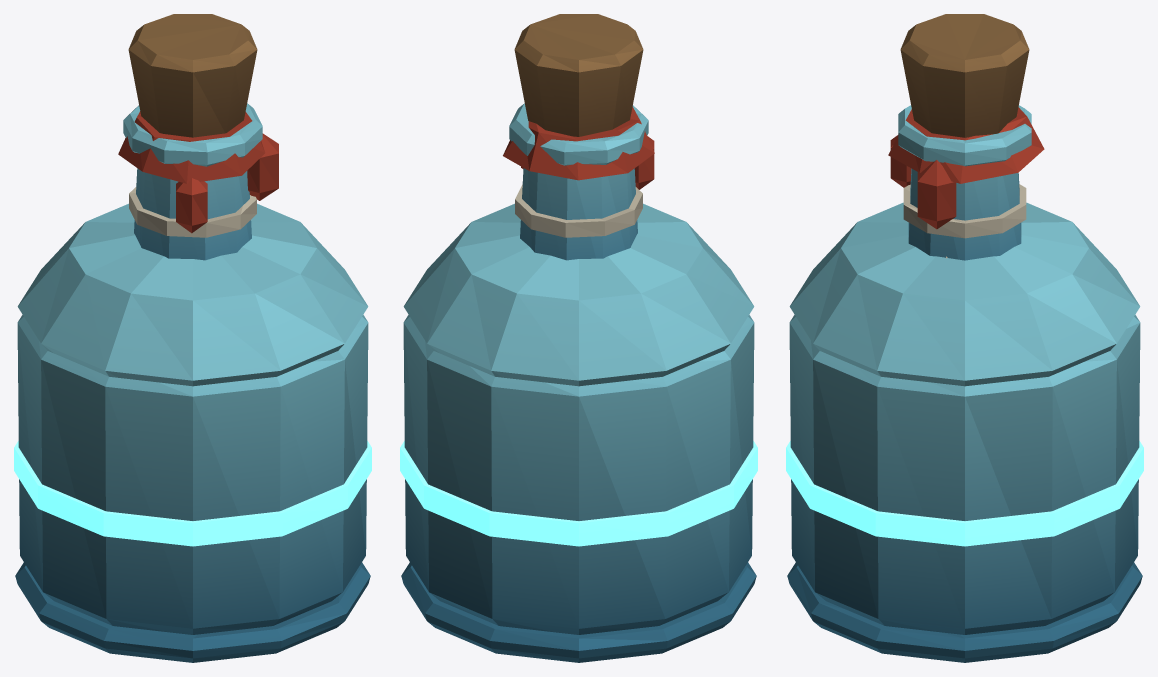
File: corked_bottle.glb
3 renders of one model, left to right at view 1: azimuth 30°, elevation 25°; view 2: azimuth 150°, elevation 25°; view 3: azimuth 270°, elevation 25°, orthographic.
Parts seen in each view (by area): view 1: corked_bottle; view 2: corked_bottle; view 3: corked_bottle.
Part boxes in pixels (x1,y1,x2,y2): corked_bottle: [14, 14, 371, 662]; corked_bottle: [400, 14, 757, 662]; corked_bottle: [786, 14, 1143, 662].
Size of the model in its own units: 0.306 by 0.525 by 0.306.
